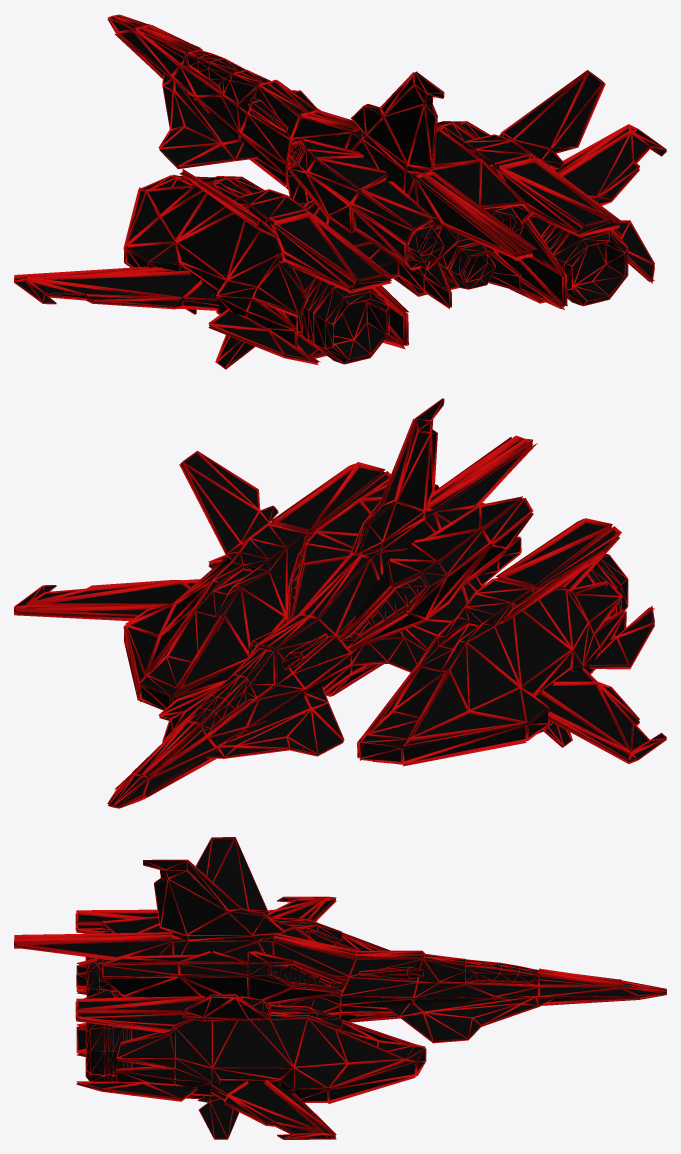
The model's file is pointyRacer.obj.
The picture shows the model from 3 angles, top to bottom: view 1: azimuth 30°, elevation 25°; view 2: azimuth 150°, elevation 25°; view 3: azimuth 270°, elevation 25°; orthographic projection. The views are drawn at different scales.
Parts seen in each view (by area): view 1: 12770001_12770001_Material.069, 12770001_12770001_Glow; view 2: 12770001_12770001_Material.069, 12770001_12770001_Glow; view 3: 12770001_12770001_Material.069, 12770001_12770001_Glow.
Boxes of the visible parts, x1,y1,x2,y2 form: 12770001_12770001_Material.069: [14, 16, 666, 368]; 12770001_12770001_Glow: [14, 14, 666, 369]; 12770001_12770001_Material.069: [14, 398, 666, 807]; 12770001_12770001_Glow: [14, 398, 666, 808]; 12770001_12770001_Material.069: [14, 839, 665, 1139]; 12770001_12770001_Glow: [14, 837, 666, 1139].
Size of the model in its own units: 2.46 by 1.01 by 2.81.
